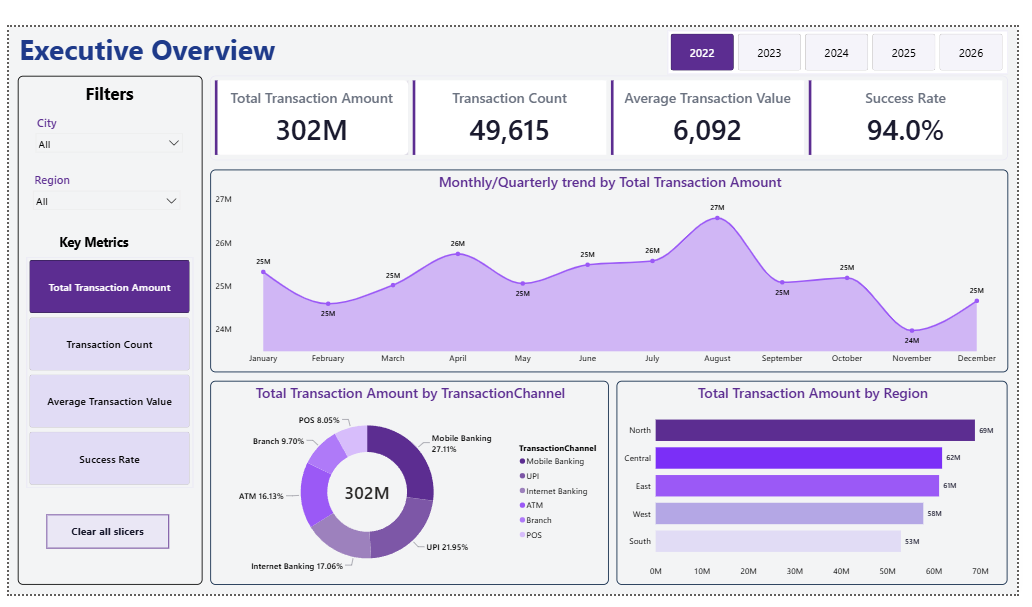

The page's visual inventory and layout, read from the dashboard file:
{"tool":"powerbi","page":{"name":"Executive Overview","canvas":[1920,1080],"ordinal":0},"visuals":[{"type":"textbox","box":[15.2,0,526.1,93.5],"z":0},{"type":"cardVisual","fields":{"Data":["Measures Table.Total Transaction Amount","Measures Table.Transaction Count","Measures Table.Average Transaction Value","Measures Table.Success Rate"]},"box":[382.6,93.5,1519.6,160.9],"z":1000},{"type":"shape","box":[16.5,92.6,352.2,969.6],"z":2000},{"type":"areaChart","fields":{"Category":["DimDate.MonthName","DimDate.Quarter"],"Y":["Measures Table.Transaction Count"]},"box":[382.2,271.1,1520,386.7],"z":3000},{"type":"advancedSlicerVisual","fields":{"Values":["KPI Value.KPI Value"]},"box":[33.3,437.8,317.8,440],"z":4000},{"type":"donutChart","fields":{"Category":["FactTransaction.TransactionChannel"],"Y":["Measures Table.Transaction Count"]},"box":[382.8,673.1,759.5,389],"z":5000},{"type":"barChart","fields":{"Category":["DimBranch.Region"],"Y":["Measures Table.Transaction Count"]},"box":[1156.8,673.1,745.1,389],"z":6000},{"type":"textbox","box":[91.1,388.9,191.4,49.4],"z":7000},{"type":"slicer","fields":{"Values":["DimBranch.City"]},"box":[41.3,160.9,300,111.1],"z":8000},{"type":"slicer","fields":{"Values":["DimBranch.Region"]},"box":[34.8,271.7,300,111.1],"z":9000},{"type":"actionButton","box":[71.1,928.9,233.3,64.4],"z":10000},{"type":"advancedSlicerVisual","fields":{"Values":["DimDate.Year"]},"box":[1254.3,6.5,647.8,82.6],"z":11000},{"type":"textbox","box":[100,100,182.6,60.9],"z":12000}]}

Visuals, with their boxes on the page's 1920x1080 design canvas (x1, y1, x2, y2). These are canvas units, not pixel positions in the 1032x607 screenshot, which may show the page scaled, cropped or inside an application window:
textbox: 15 0 541 94
cardVisual - Measures Table.Total Transaction Amount x Measures Table.Transaction Count: 383 94 1902 254
shape: 16 93 369 1062
areaChart - DimDate.MonthName x DimDate.Quarter: 382 271 1902 658
advancedSlicerVisual - KPI Value.KPI Value: 33 438 351 878
donutChart - FactTransaction.TransactionChannel x Measures Table.Transaction Count: 383 673 1142 1062
barChart - DimBranch.Region x Measures Table.Transaction Count: 1157 673 1902 1062
textbox: 91 389 282 438
slicer - DimBranch.City: 41 161 341 272
slicer - DimBranch.Region: 35 272 335 383
actionButton: 71 929 304 993
advancedSlicerVisual - DimDate.Year: 1254 6 1902 89
textbox: 100 100 283 161
